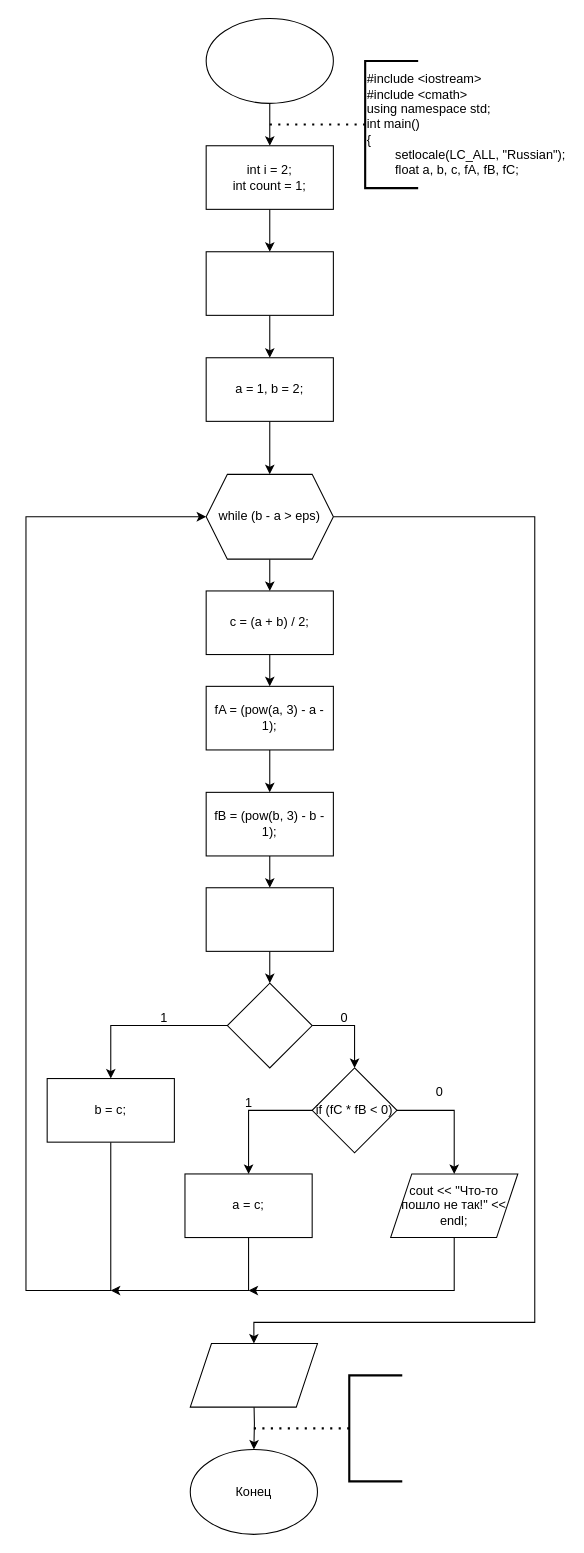
Image size: 584x1553. Some labels were removed from this diagram. The shapes that lost their labels are listed below. From the top down, each one's centre as x and y in pixels, then its label:
the point at 269,60: Начало
the point at 269,283: double eps = 0.000001;
the point at 269,919: fC = (pow(c, 3) - c - 1);
the point at 269,1025: if (fA * fC < 0)
the point at 253,1374: cout << "Корни: " << a << "; " << b << endl;
the point at 375,1428: return 0; }
